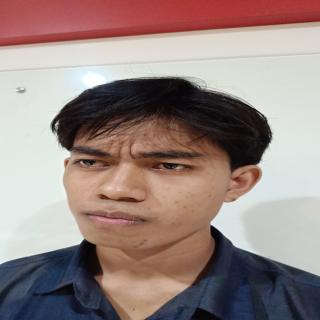Marah: (55, 113, 224, 256)
